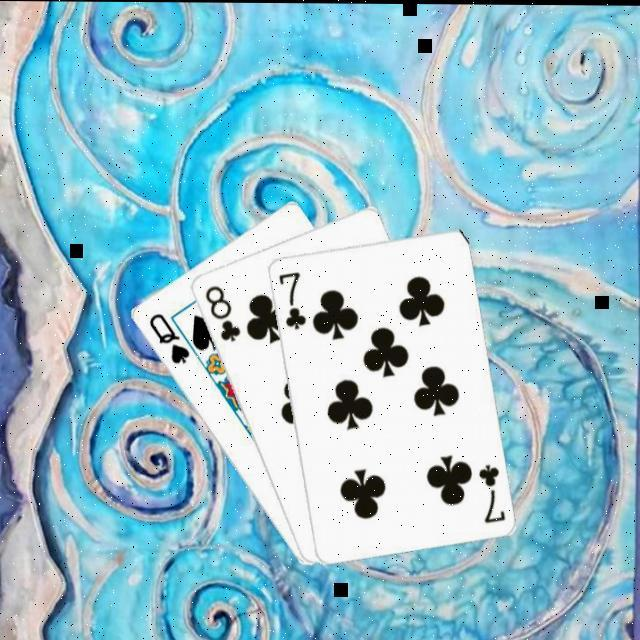7C: (276, 266, 310, 330), (476, 459, 509, 523)
8C: (203, 280, 245, 342)
QS: (146, 308, 194, 364)
